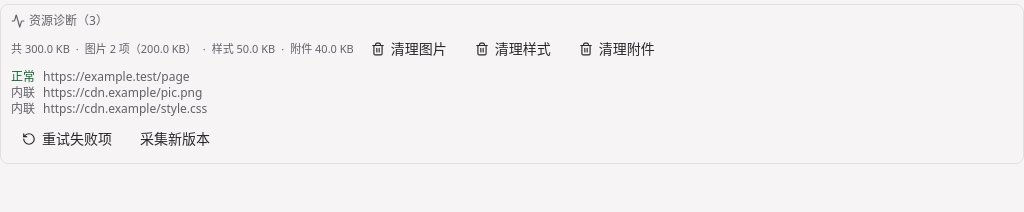
Scenario: SnapshotDiagnosticsPanel — N124 资源预算与清理 › 清理图片：只调选中类别，完成后重取并以「缺失」回显被清资源
The width and height of the screenshot is (1024, 212).
What coordinates should you click on to do the following:
click the button "清理图片"
I would click on:
 (409, 49)
Its box is [360,33,458,65].
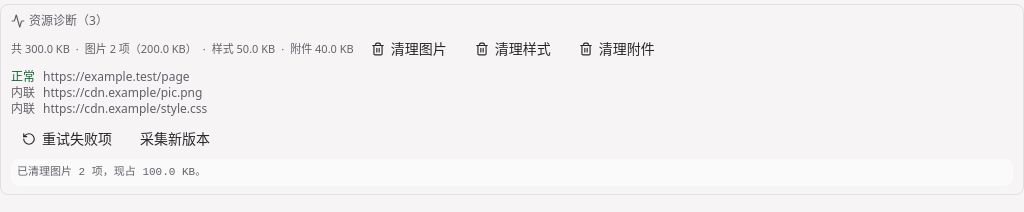
Expected: the button "清理样式" is shown, [464,33,562,65]
Now the text "已清理图片 2 项，现占 100.0 KB。" is shown, box [11,159,1013,186]
